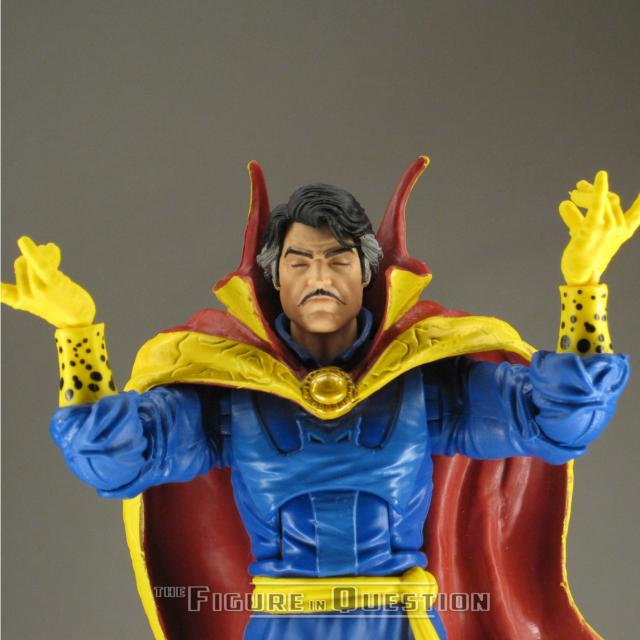doctor_strange: (38, 151, 622, 633)
